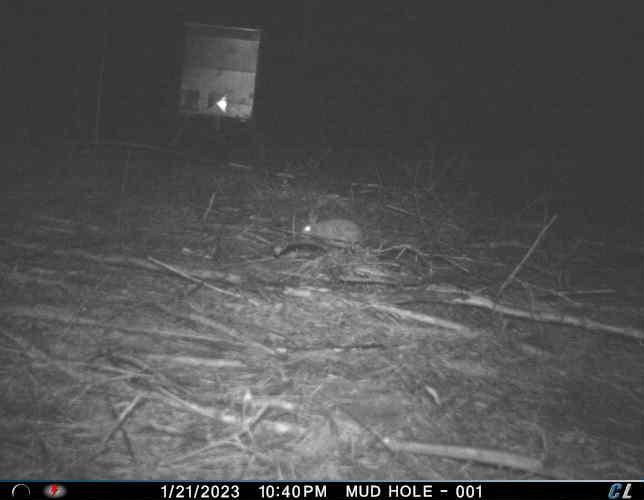Rabbit: (299, 208, 364, 252)
